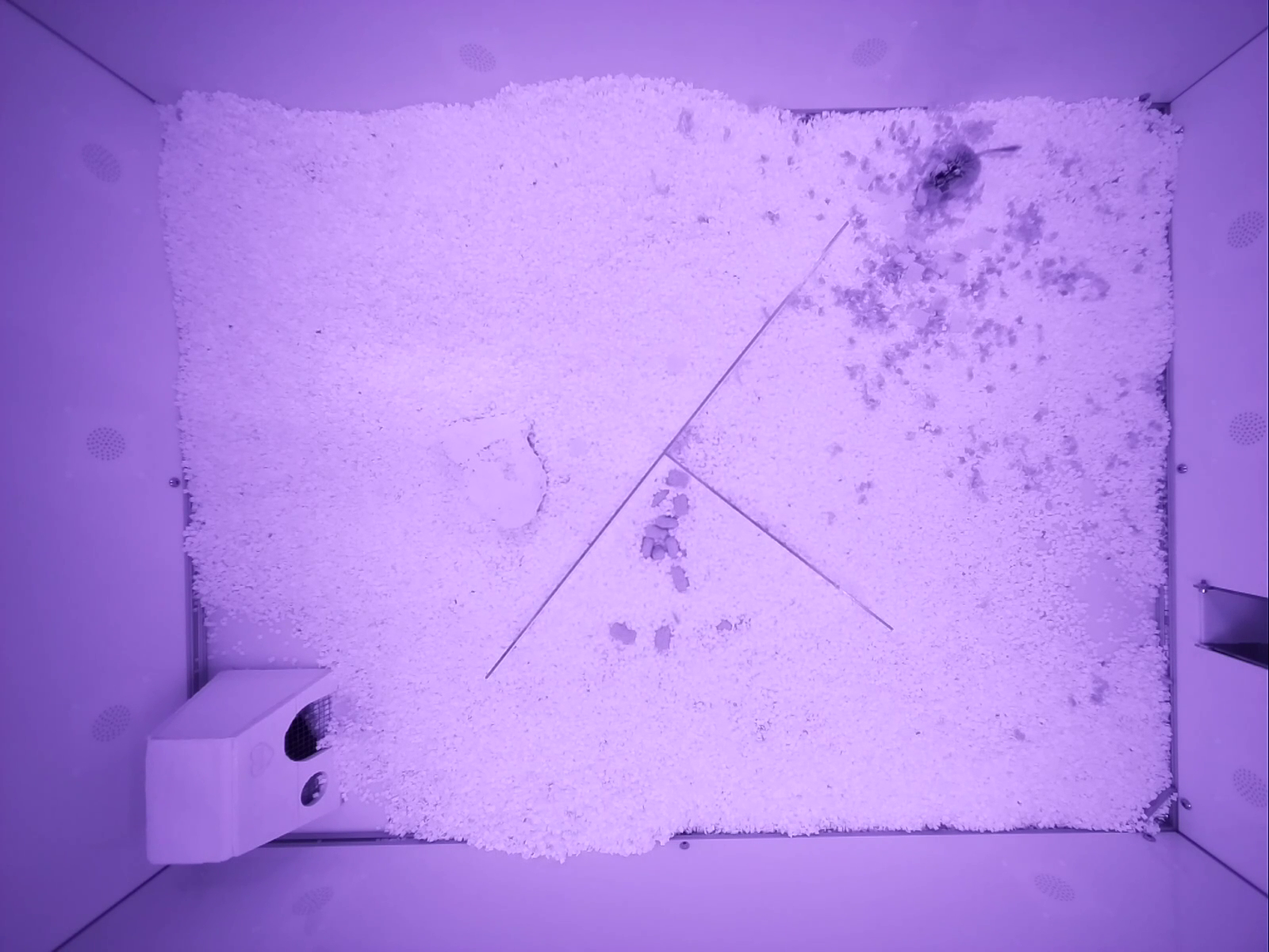adult_back: (914, 143, 1019, 209)
